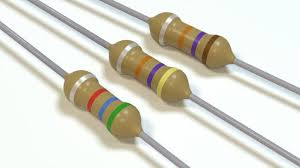resistor: (54, 61, 154, 148), (138, 8, 256, 75), (98, 36, 204, 106)
